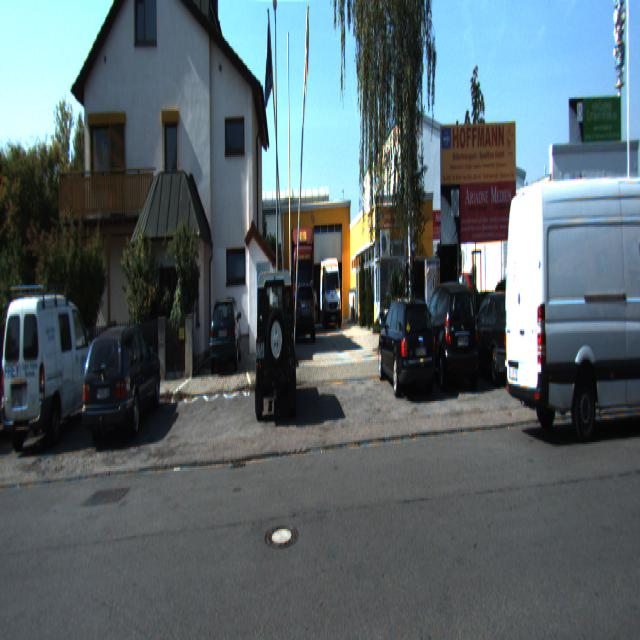Car: (500, 165, 640, 443), (0, 283, 104, 452), (82, 318, 163, 445), (460, 294, 541, 392), (415, 277, 483, 393), (252, 269, 296, 427), (376, 294, 439, 404), (0, 362, 61, 447), (208, 292, 243, 372), (290, 224, 312, 336), (319, 253, 342, 331), (295, 276, 315, 340)
